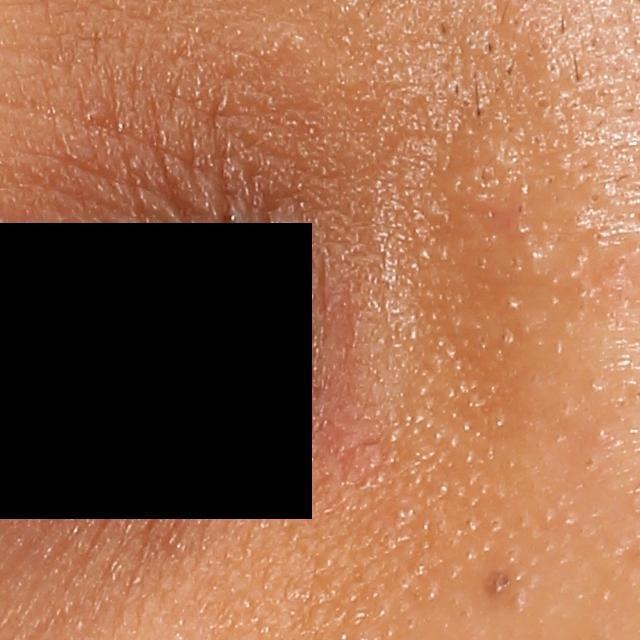comedo: (535, 94, 556, 110)
nevus: (483, 570, 512, 597)
